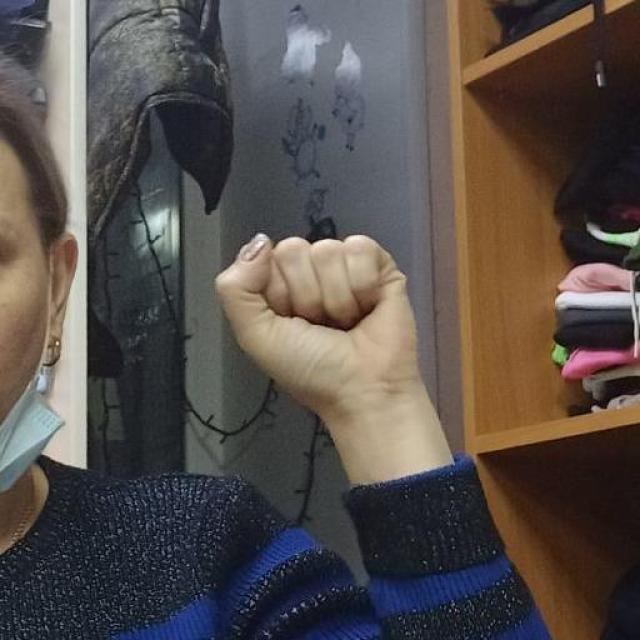hand: (213, 229, 455, 485)
